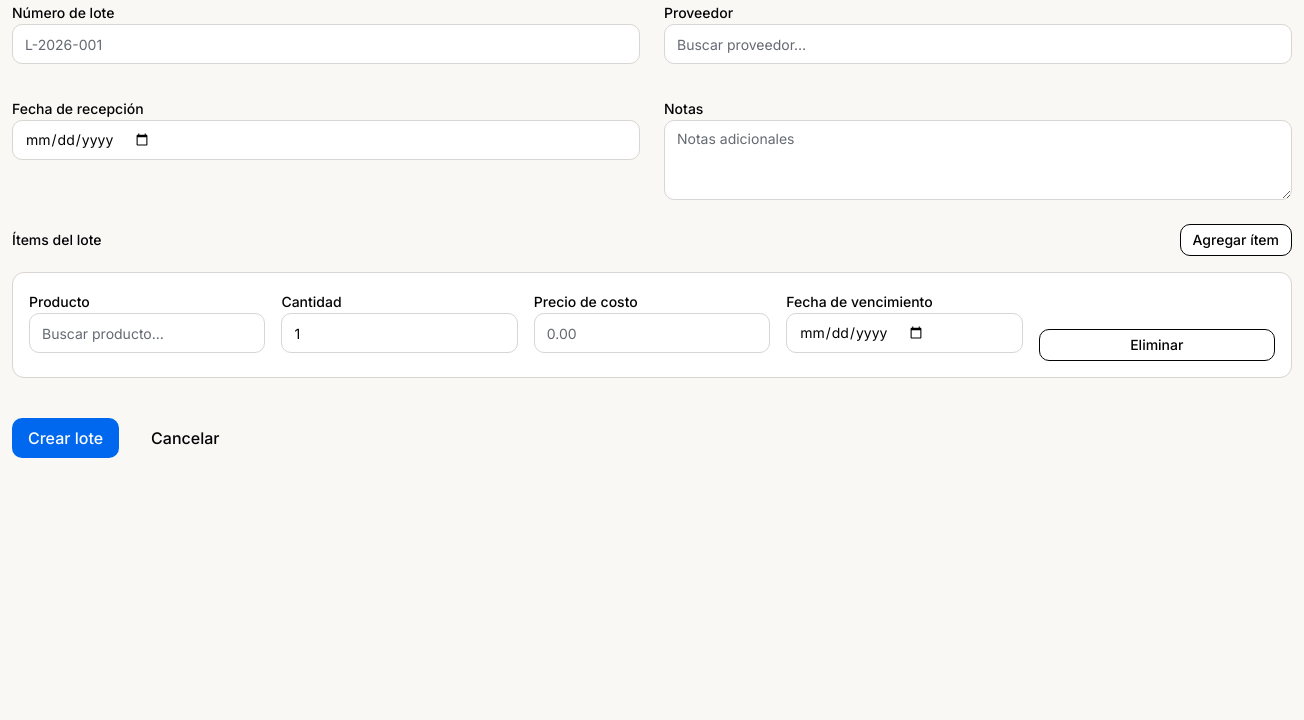
Test: LotForm › shows validation errors for required fields
Click the button "Crear lote". click: x=66, y=438
box: [12,418,119,458]
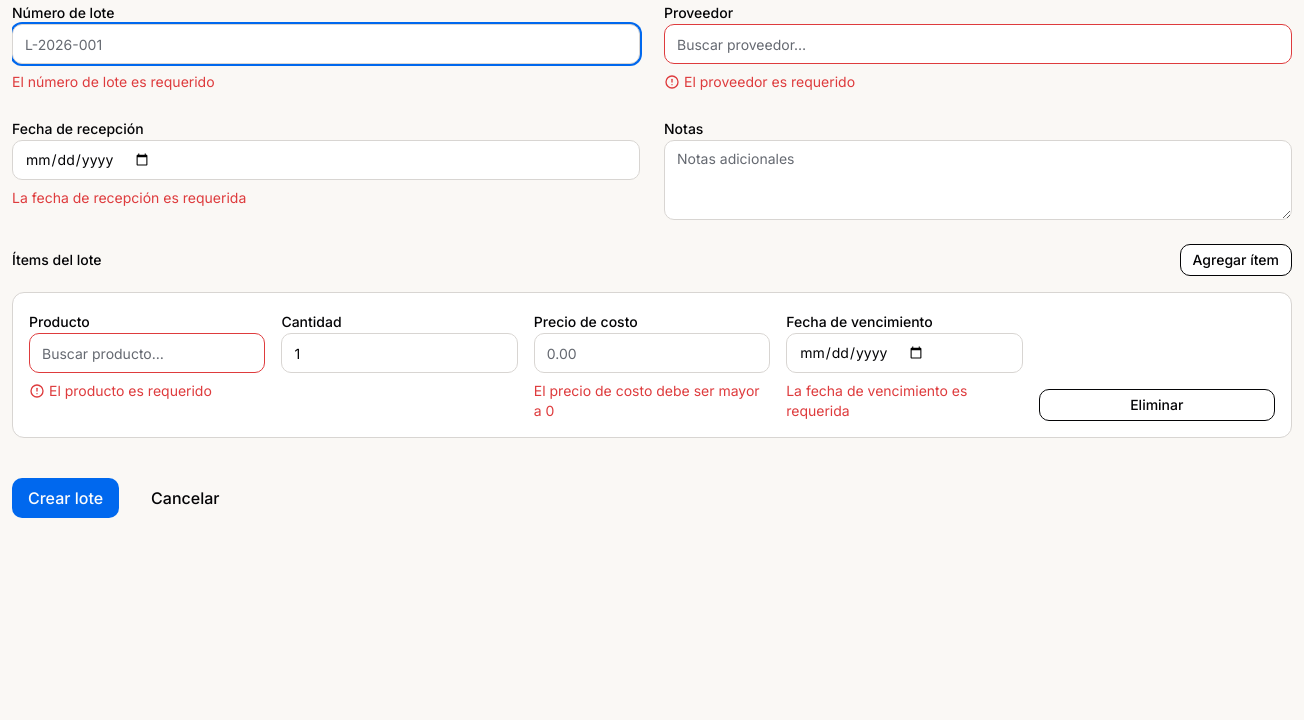
Expected: the text "El número de lote es requerido" is shown, [12,73,215,90]
Expected: the text "El proveedor es requerido" is shown, [664,73,855,90]
Expected: the text "La fecha de recepción es requerida" is shown, [12,189,246,206]
